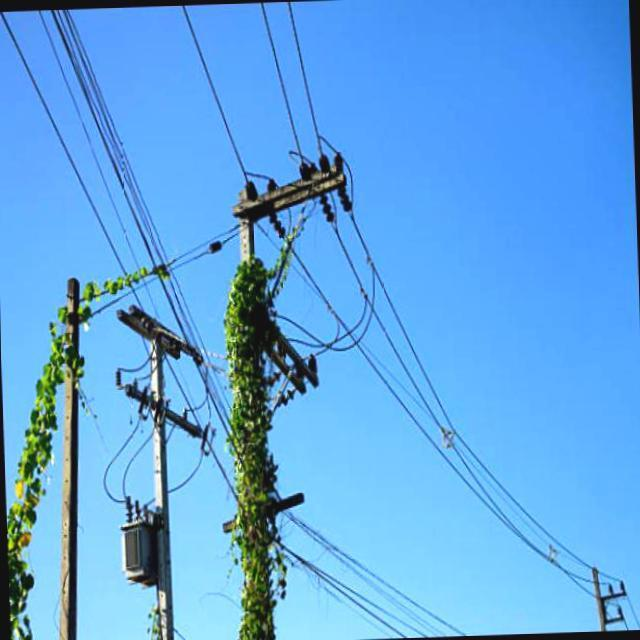critical vegetation: (212, 173, 310, 632), (34, 267, 119, 408)
